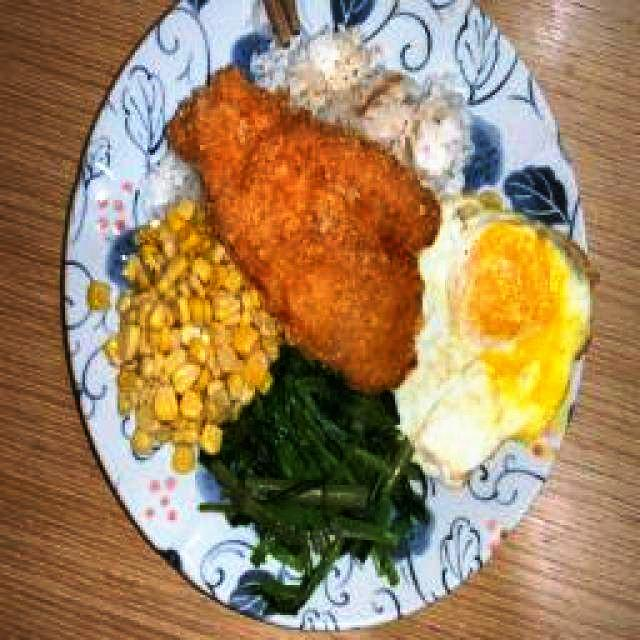fried_chicken: (162, 65, 440, 392)
fried_eggs: (400, 190, 593, 473)
rice: (249, 33, 478, 177)
water_spinach: (219, 354, 435, 609)
